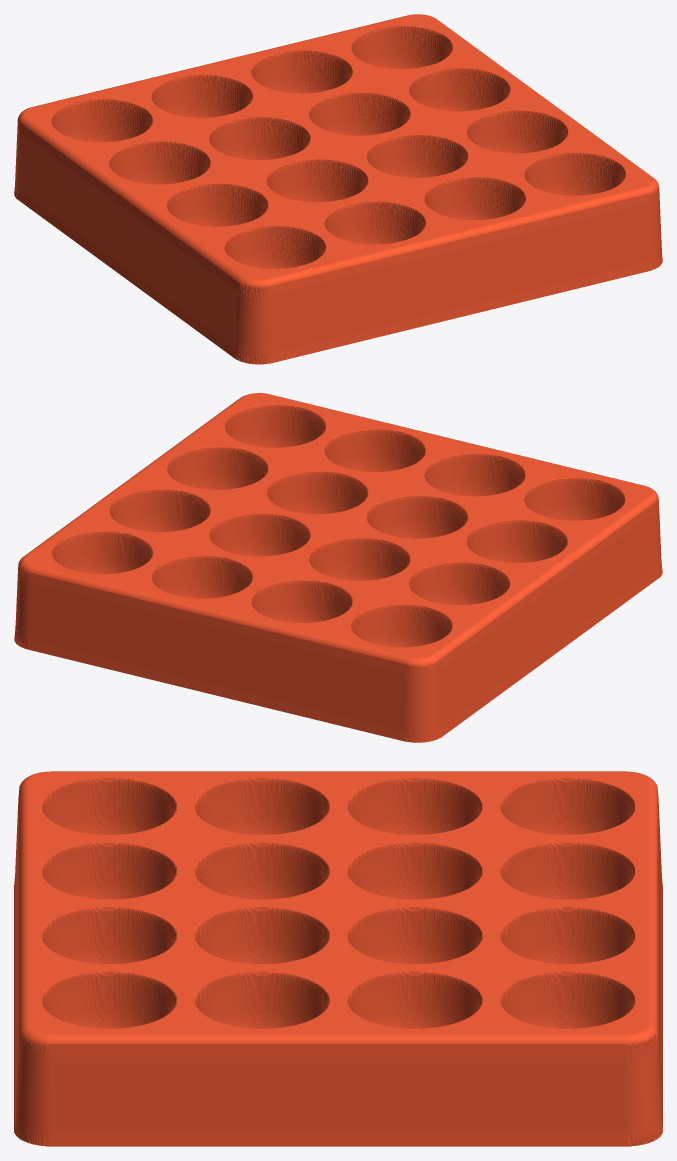
Rendered from mold.glb.
3 renders of one model, top to bottom at view 1: azimuth 30°, elevation 25°; view 2: azimuth 150°, elevation 25°; view 3: azimuth 270°, elevation 25°, orthographic. The views are drawn at different scales.
Parts seen in each view (by area): view 1: geometry_0; view 2: geometry_0; view 3: geometry_0.
Boxes of the visible parts, x1=… form: geometry_0: x1=14, y1=14, x2=662, y2=364; geometry_0: x1=14, y1=393, x2=662, y2=742; geometry_0: x1=14, y1=771, x2=662, y2=1146.
Bounding box in the file's own units: 0.1569 × 0.0283 × 0.1569.
